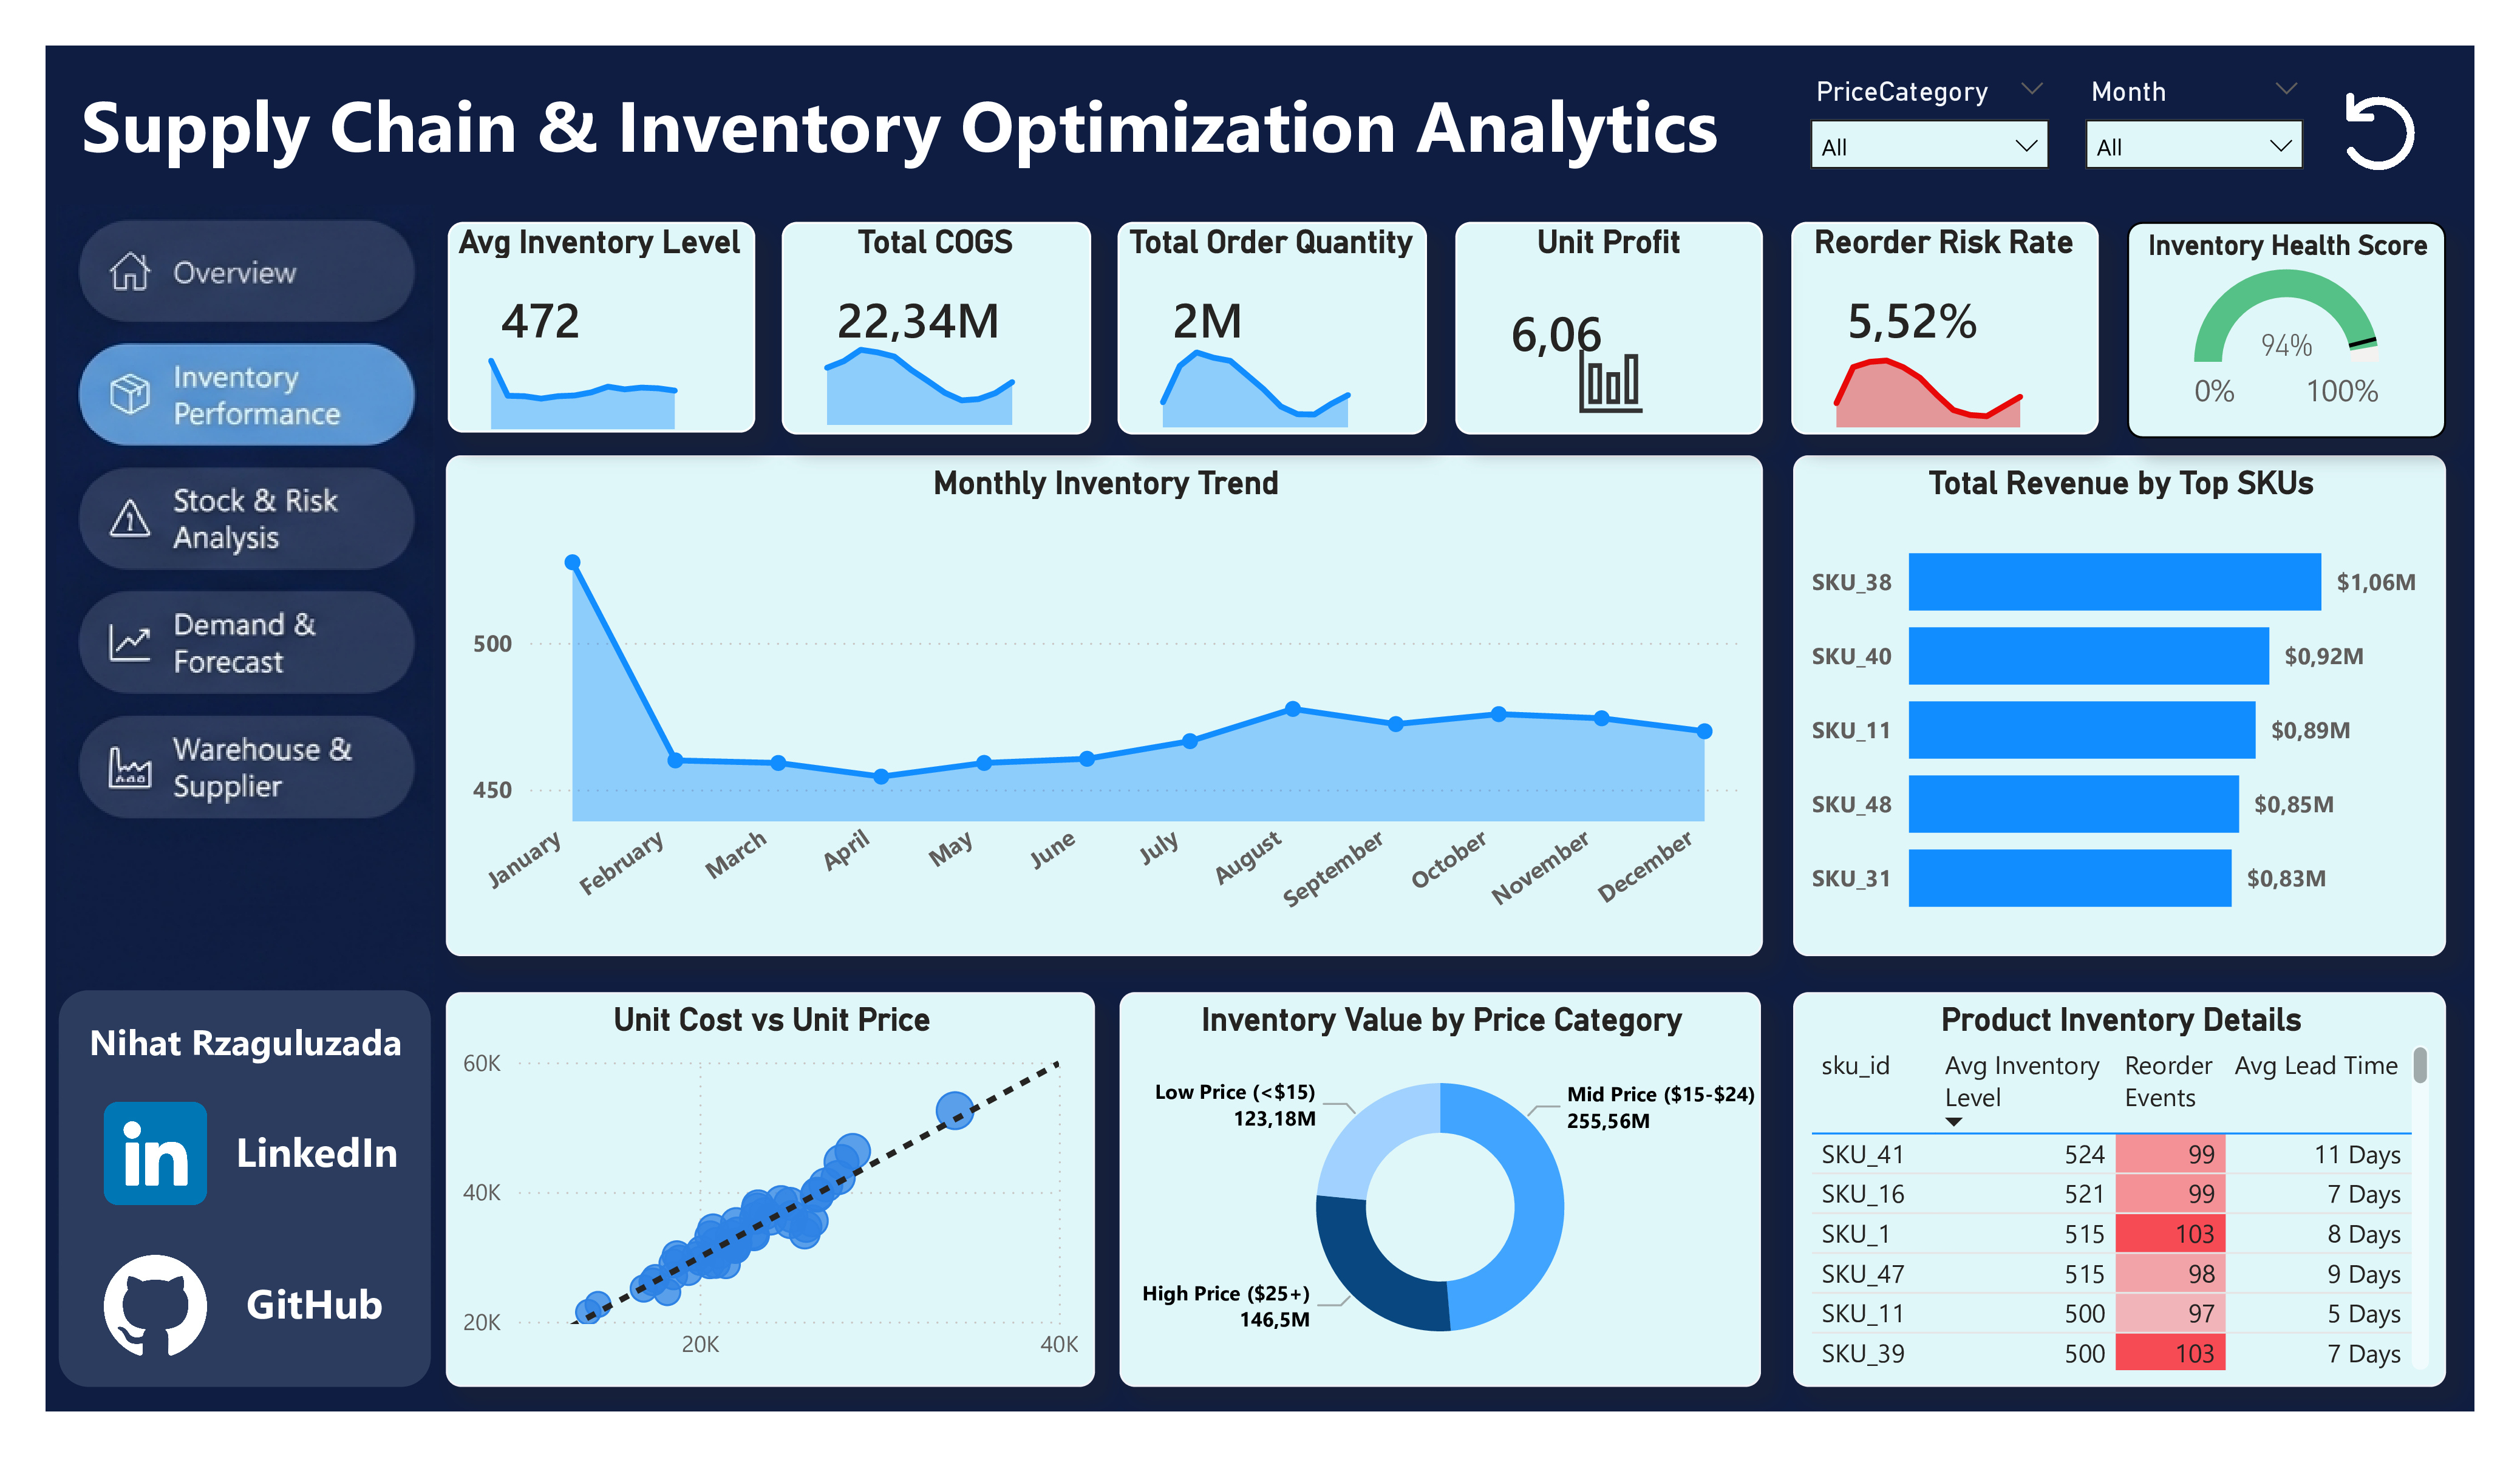

The dashboard page shown, as its layout file describes it:
{"tool":"powerbi","page":{"name":"Inventory Performance","canvas":[1280,720],"ordinal":1},"visuals":[{"type":"image","box":[6.3,84.4,198.3,581.1],"z":0},{"type":"lineChart","title":"Monthly Inventory Trend","fields":{"Category":["dim_date.month_name"],"Y":["_Measures.Average Inventory Level"]},"box":[211.5,216.3,693.6,263.4],"z":1000},{"type":"clusteredBarChart","title":"Total Revenue by Top SKUs","fields":{"Category":["fact_inventory_daily.sku_id"],"Y":["_Measures.Total Revenue"]},"box":[920.7,216.3,344.4,263.4],"z":2000},{"type":"scatterChart","title":"Unit Cost vs Unit Price","fields":{"Size":["_Measures.Total Revenue"],"X":["Sum(fact_inventory_daily.unit_cost)"],"Y":["Sum(fact_inventory_daily.unit_price)"],"Category":["fact_inventory_daily.sku_id"]},"box":[211.1,498.9,342.2,207.8],"z":3000},{"type":"donutChart","title":"Inventory Value by Price Category","fields":{"Category":["fact_inventory_daily.Price Category"],"Y":["_Measures.Total Inventory Value"]},"box":[565.6,498.9,338.9,207.8],"z":4000},{"type":"lineChart","fields":{"Y":["_Measures.Total Profit"],"Category":["dim_date.month"]},"box":[391.5,136.5,161.9,65.2],"z":5000},{"type":"shape","box":[211.6,92.9,162.1,111.5],"z":6000},{"type":"cardVisual","title":"Avg Inventory Level","fields":{"Data":["_Measures.Average Inventory Level"]},"box":[210.9,92.8,162.4,81.2],"z":7000},{"type":"lineChart","fields":{"Category":["dim_date.month"],"Y":["_Measures.Average Inventory Level"]},"box":[210.9,145.5,162.4,61.2],"z":8000},{"type":"shape","box":[388.1,92.8,162.4,111.8],"z":9000},{"type":"shape","box":[565.3,92.8,162.4,111.8],"z":10000},{"type":"shape","box":[919.7,92.8,162.4,111.8],"z":11000},{"type":"shape","box":[742.5,92.8,162.4,111.8],"z":12000},{"type":"cardVisual","title":"Total COGS","fields":{"Data":["_Measures.Total COGS"]},"box":[387.9,93,161.9,81],"z":13000},{"type":"lineChart","fields":{"Category":["dim_date.month"],"Y":["_Measures.Total COGS"]},"box":[388.1,144.5,162.4,61.2],"z":14000},{"type":"cardVisual","title":"Total Order Quantity","fields":{"Data":["_Measures.Total Order Quantity"]},"box":[565.5,93,161.9,81],"z":16000},{"type":"cardVisual","title":"Unit Profit","fields":{"Data":["_Measures.Unit Profit"]},"box":[743.1,93,161.9,94.2],"z":17000},{"type":"lineChart","fields":{"Category":["dim_date.month"],"Y":["_Measures.Unit Profit"]},"box":[743.6,146.6,161.4,60.1],"z":18000},{"type":"cardVisual","title":"Reorder Risk Rate ","fields":{"Data":["_Measures.Reorder Risk Rate %"]},"box":[919.5,93,161.9,81],"z":19000},{"type":"lineChart","fields":{"Category":["dim_date.month"],"Y":["_Measures.Reorder Risk Rate %"]},"box":[919.7,144.5,162.4,61.2],"z":20000},{"type":"tableEx","title":"Product Inventory Details","fields":{"Values":["fact_inventory_daily.sku_id","_Measures.Average Inventory Level","_Measures.Reorder Events","_Measures.Avg Lead Time"]},"box":[920.8,498.9,343.8,207.8],"z":21000},{"type":"gauge","title":"Inventory Health Score","fields":{"Y":["_Measures.Inventory Health Score"],"TargetValue":["select"]},"box":[1097.1,93,168,113.6],"z":22000},{"type":"shape","box":[15.8,160.3,178.2,51.7],"z":23000},{"type":"shape","box":[15.8,221.5,178.2,54.8],"z":24000},{"type":"shape","box":[15.8,288,178.2,53.8],"z":25000},{"type":"shape","box":[15.8,352,178.2,53.8],"z":26000},{"type":"shape","box":[15.8,92.8,178.2,55.9],"z":27000},{"type":"textbox","box":[13.7,10.5,891.2,82.3],"z":28000},{"type":"shape","box":[7.2,497.8,195.7,209],"z":29000},{"type":"shape","box":[66.5,685.1,23,23],"z":30000},{"type":"image","box":[27.8,636.8,60.4,54.4],"z":31000},{"type":"image","box":[26.6,557,61.6,54.4],"z":32000},{"type":"textbox","box":[18.1,507.5,177.6,41.1],"z":33000},{"type":"textbox","box":[95.5,563.1,105.1,42.3],"z":34000},{"type":"textbox","box":[101.5,642.8,95.5,42.3],"z":35000},{"type":"lineChart","fields":{"Category":["dim_date.month"],"Y":["_Measures.Total Order Quantity"]},"box":[565.3,144.5,162.4,61.2],"z":38500},{"type":"slicer","fields":{"Values":["dim_date.month"]},"box":[1065.3,10.5,135,70.7],"z":38501},{"type":"slicer","fields":{"Values":["fact_inventory_daily.Price Category"]},"box":[919.5,10.9,146.2,70.1],"z":38502},{"type":"image","box":[1199.2,21.1,60.1,50.6],"z":38503}]}

Visuals, with their boxes on the page's 1280x720 design canvas (x1, y1, x2, y2). These are canvas units, not pixel positions in the 2520x1457 screenshot, which may show the page scaled, cropped or inside an application window:
image: BBox(6, 84, 205, 666)
"Monthly Inventory Trend" lineChart: BBox(212, 216, 905, 480)
"Total Revenue by Top SKUs" clusteredBarChart: BBox(921, 216, 1265, 480)
"Unit Cost vs Unit Price" scatterChart: BBox(211, 499, 553, 707)
"Inventory Value by Price Category" donutChart: BBox(566, 499, 904, 707)
lineChart - _Measures.Total Profit x dim_date.month: BBox(392, 136, 553, 202)
shape: BBox(212, 93, 374, 204)
"Avg Inventory Level" cardVisual: BBox(211, 93, 373, 174)
lineChart - dim_date.month x _Measures.Average Inventory Level: BBox(211, 146, 373, 207)
shape: BBox(388, 93, 550, 205)
shape: BBox(565, 93, 728, 205)
shape: BBox(920, 93, 1082, 205)
shape: BBox(742, 93, 905, 205)
"Total COGS" cardVisual: BBox(388, 93, 550, 174)
lineChart - dim_date.month x _Measures.Total COGS: BBox(388, 144, 550, 206)
"Total Order Quantity" cardVisual: BBox(566, 93, 727, 174)
"Unit Profit" cardVisual: BBox(743, 93, 905, 187)
lineChart - dim_date.month x _Measures.Unit Profit: BBox(744, 147, 905, 207)
"Reorder Risk Rate " cardVisual: BBox(920, 93, 1081, 174)
lineChart - dim_date.month x _Measures.Reorder Risk Rate %: BBox(920, 144, 1082, 206)
"Product Inventory Details" tableEx: BBox(921, 499, 1265, 707)
"Inventory Health Score" gauge: BBox(1097, 93, 1265, 207)
shape: BBox(16, 160, 194, 212)
shape: BBox(16, 222, 194, 276)
shape: BBox(16, 288, 194, 342)
shape: BBox(16, 352, 194, 406)
shape: BBox(16, 93, 194, 149)
textbox: BBox(14, 10, 905, 93)
shape: BBox(7, 498, 203, 707)
shape: BBox(66, 685, 90, 708)
image: BBox(28, 637, 88, 691)
image: BBox(27, 557, 88, 611)
textbox: BBox(18, 508, 196, 549)
textbox: BBox(96, 563, 201, 605)
textbox: BBox(102, 643, 197, 685)
lineChart - dim_date.month x _Measures.Total Order Quantity: BBox(565, 144, 728, 206)
slicer - dim_date.month: BBox(1065, 10, 1200, 81)
slicer - fact_inventory_daily.Price Category: BBox(920, 11, 1066, 81)
image: BBox(1199, 21, 1259, 72)
